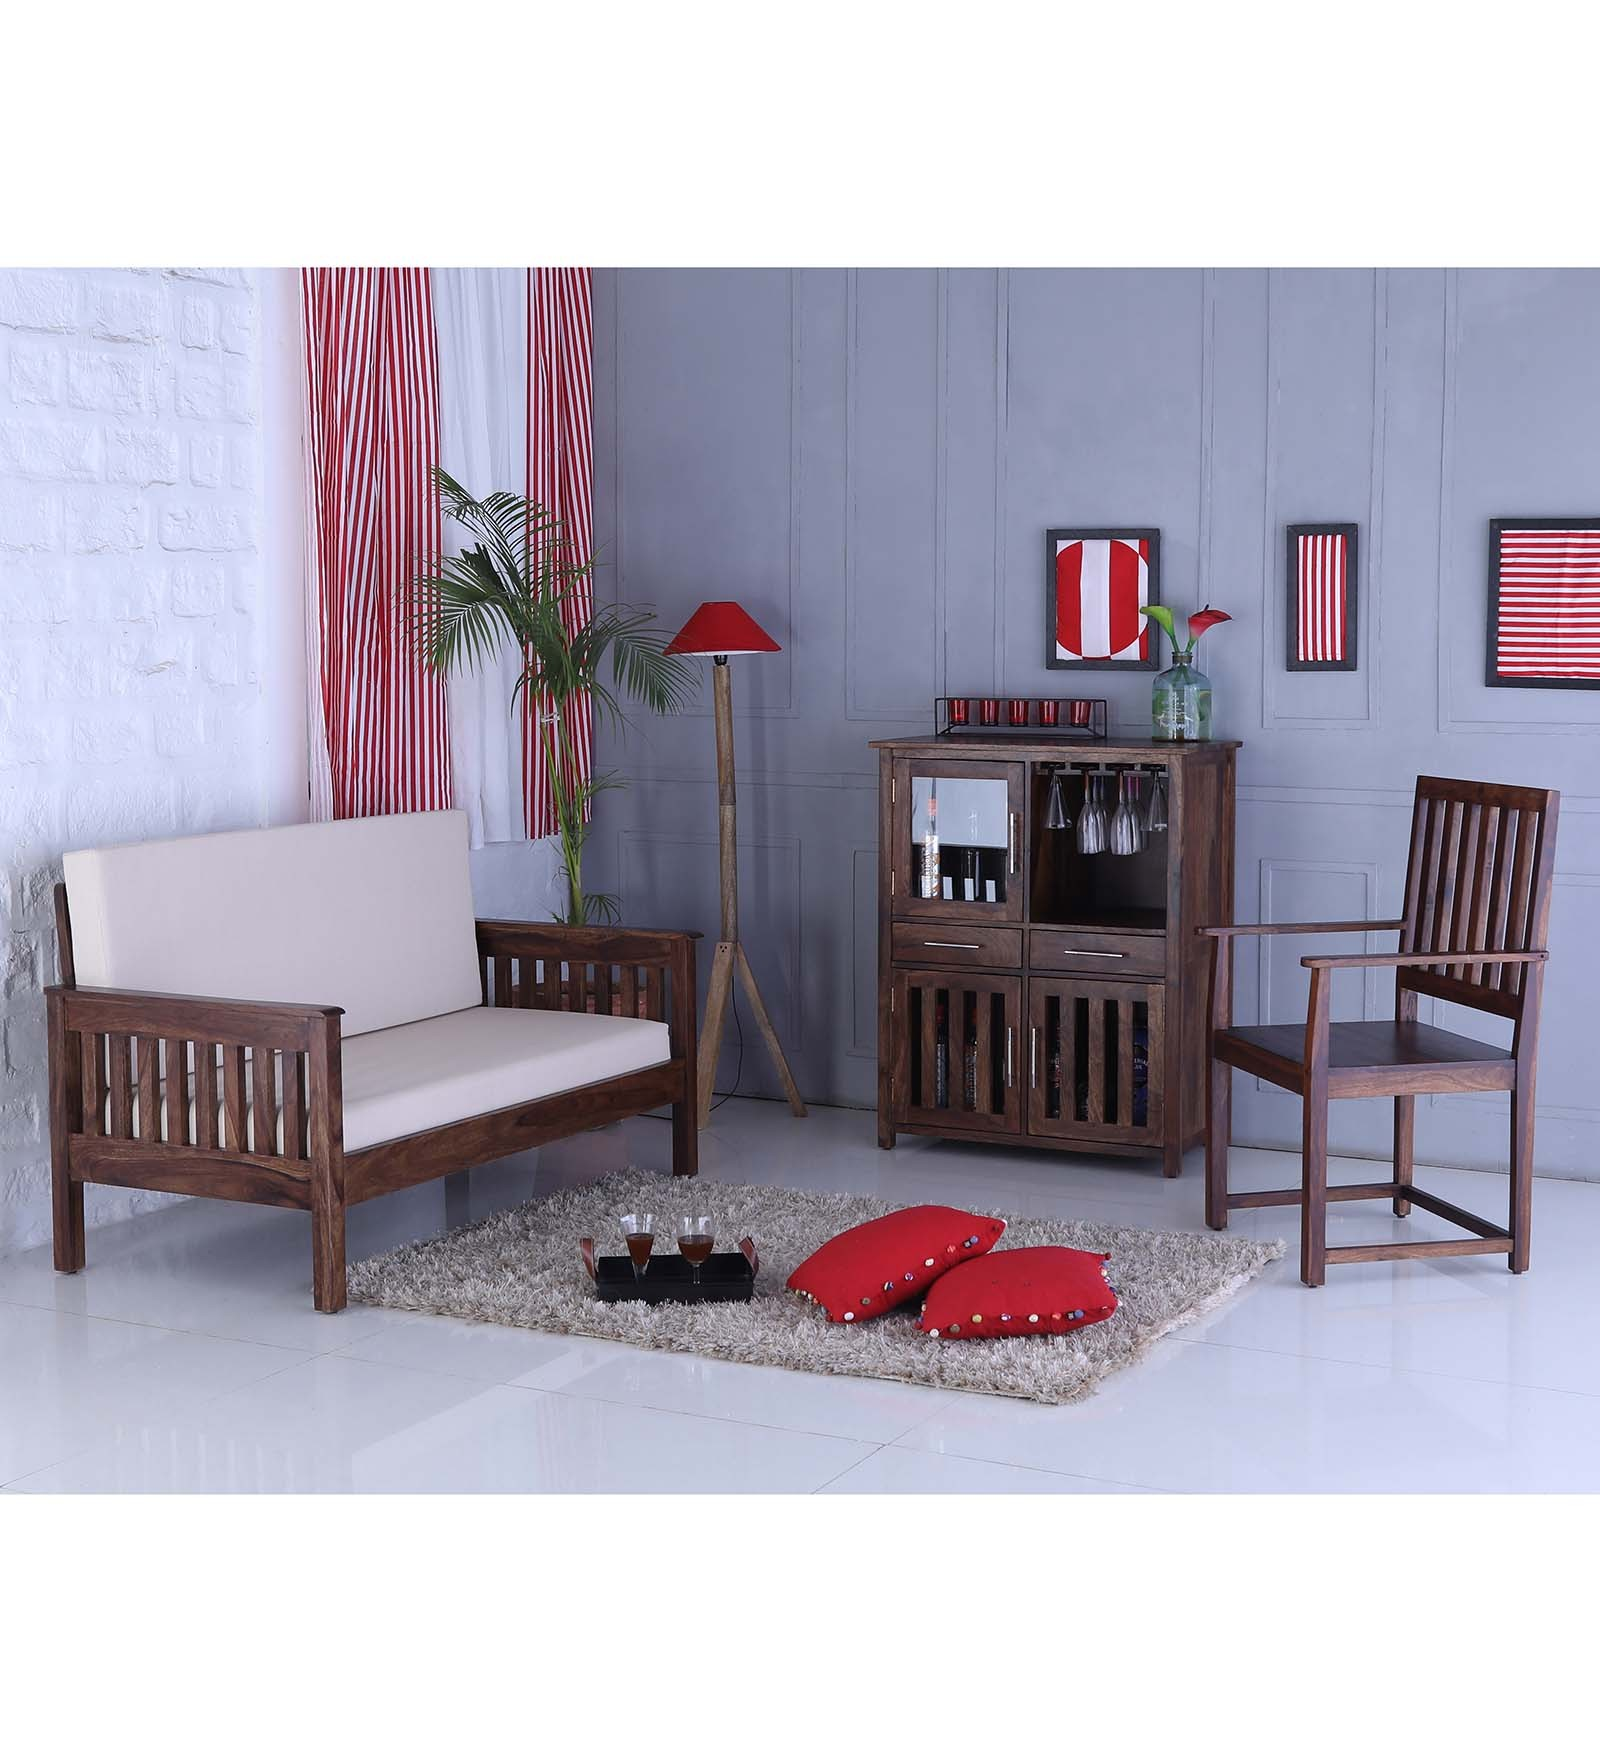Abbey Arm Chair in Honey Oak Finish by Woodsworth: (1198, 750, 1565, 1328)
